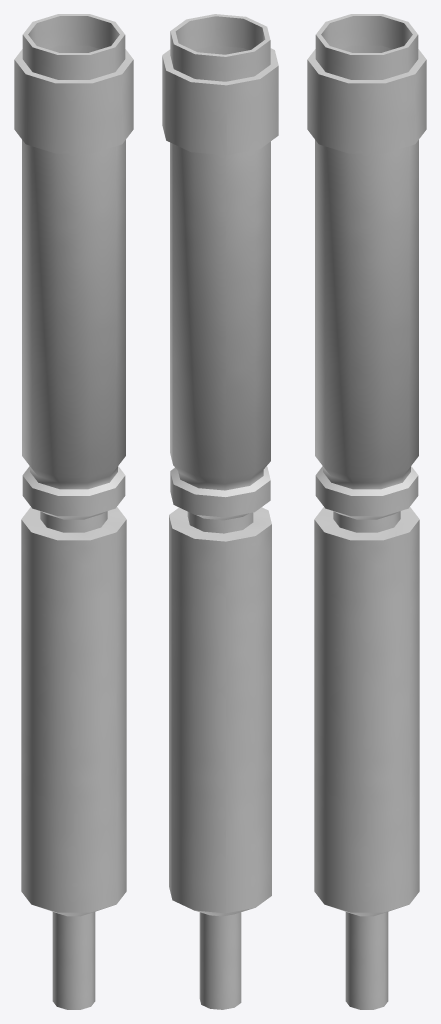
File: SM_石墨化炭黑柱001.fbx
3 renders of one model, left to right at view 1: azimuth 90°, elevation 25°; view 2: azimuth 150°, elevation 25°; view 3: azimuth 270°, elevation 25°, orthographic.
Parts seen in each view (by area): view 1: SM_石墨化炭黑柱001; view 2: SM_石墨化炭黑柱001; view 3: SM_石墨化炭黑柱001.
Boxes of the visible parts, x1=… form: SM_石墨化炭黑柱001: x1=14, y1=14, x2=133, y2=1009; SM_石墨化炭黑柱001: x1=162, y1=14, x2=278, y2=1009; SM_石墨化炭黑柱001: x1=307, y1=14, x2=426, y2=1009.
Bounding box in the file's own units: 0.0107 × 0.1009 × 0.0113.
